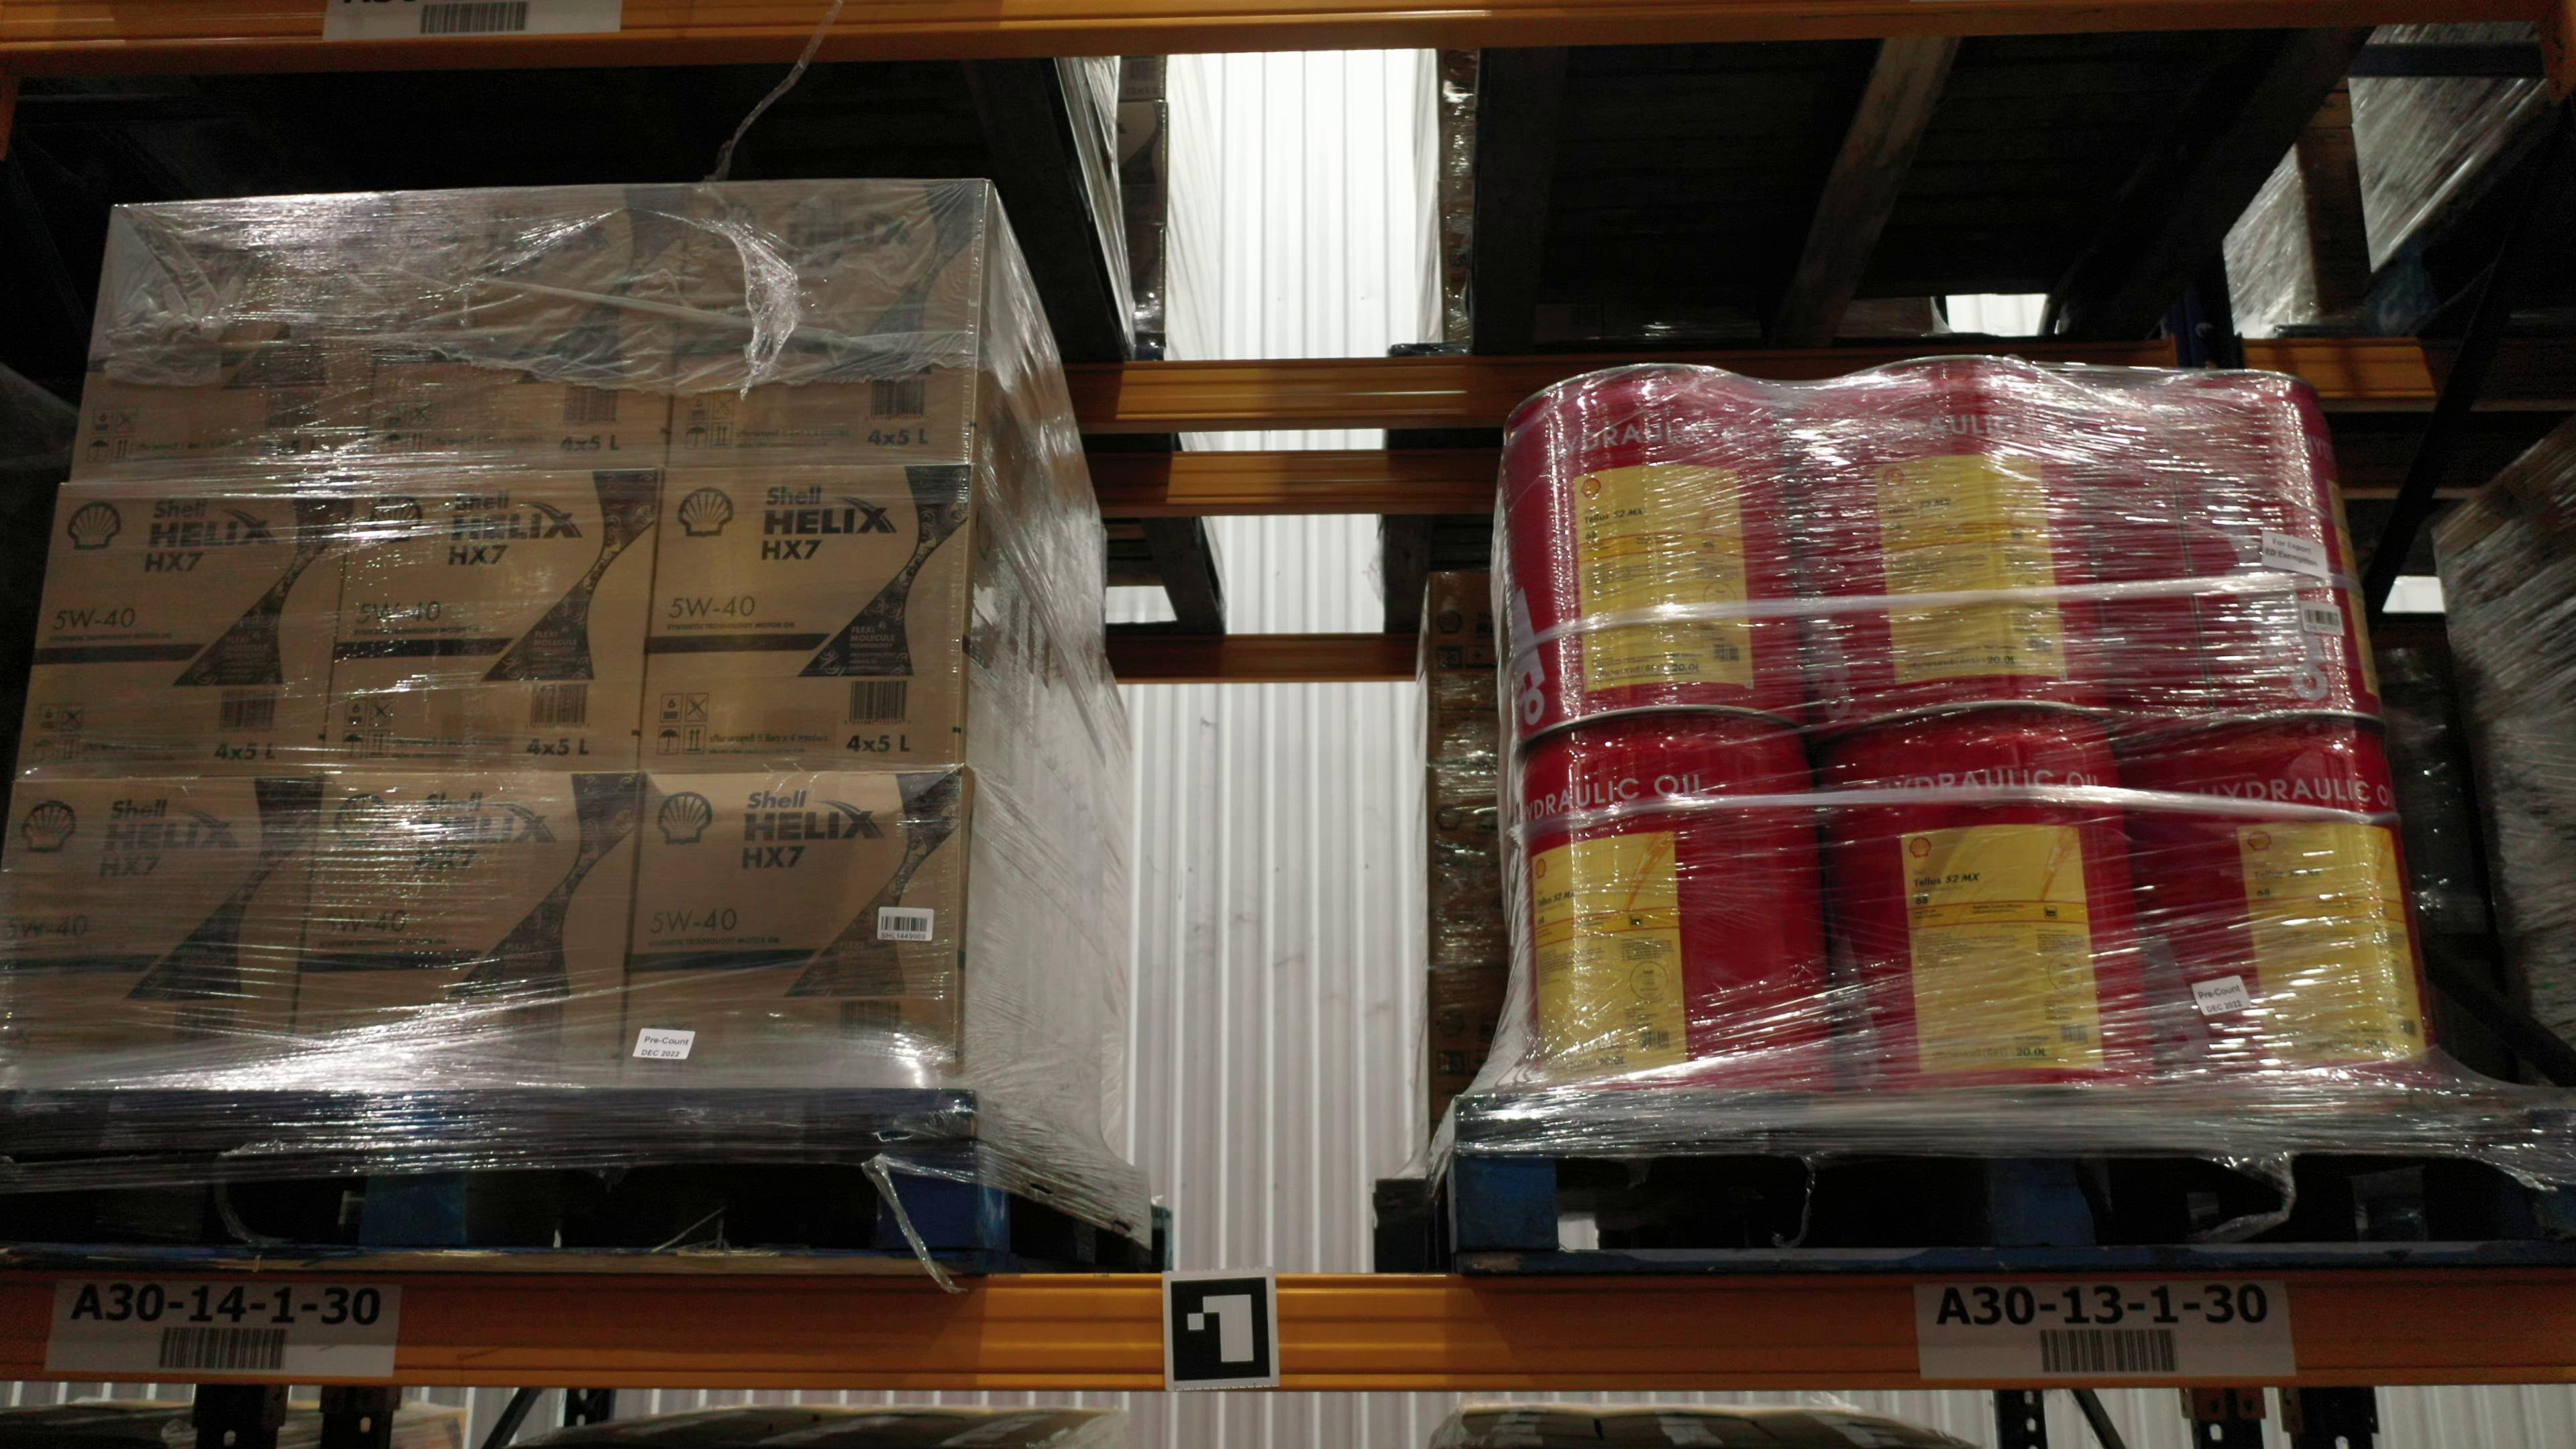-: (1821, 709, 2153, 1086), (1787, 363, 2104, 729), (287, 770, 644, 1086), (1499, 368, 1801, 740), (1525, 715, 1826, 1086), (625, 770, 971, 1081), (2134, 720, 2431, 1067), (322, 467, 660, 770), (0, 775, 322, 1086), (644, 464, 971, 764), (359, 184, 695, 474), (19, 478, 352, 770), (62, 195, 398, 483), (2107, 372, 2380, 725), (667, 179, 991, 469)
